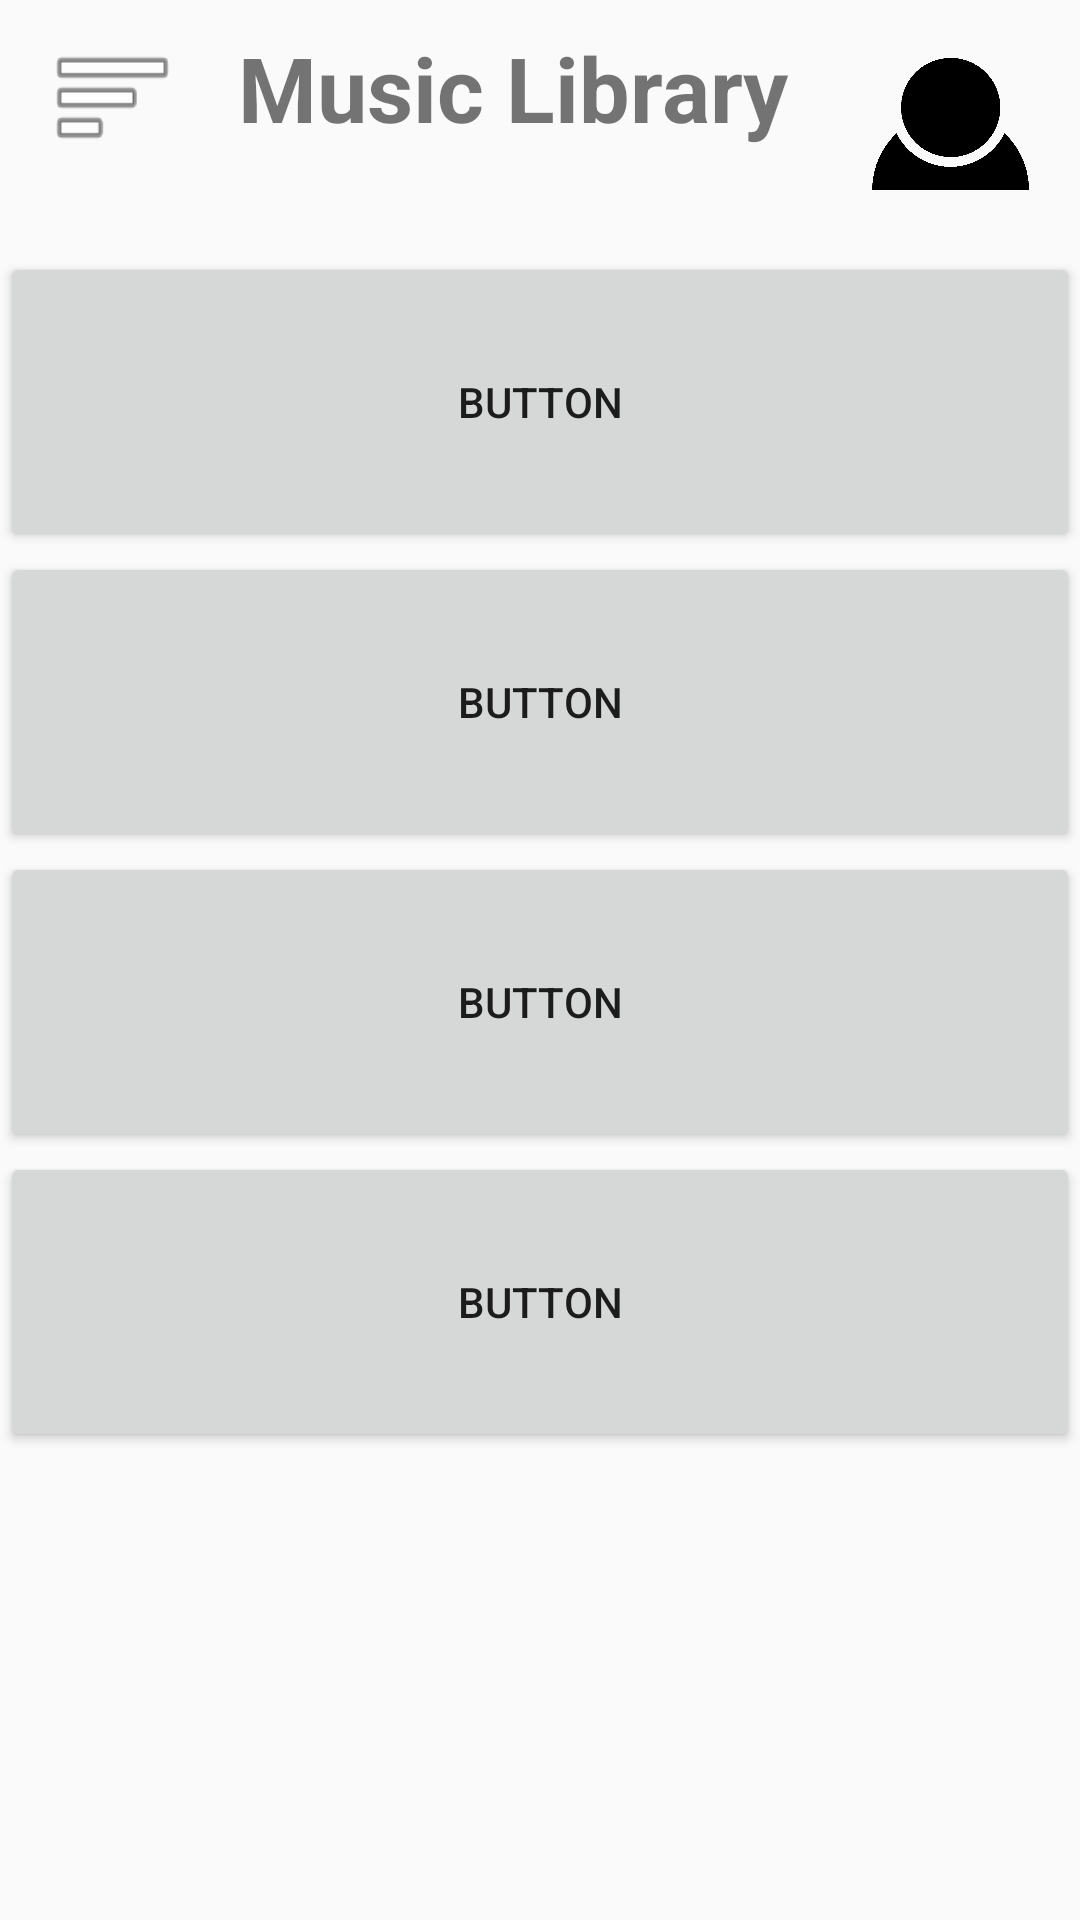

Where icons sit on this 1080px×1920px app screen, as (x1, y1, x2, y2):
profile: (872, 58, 1029, 190)
sort by size: (57, 57, 168, 138)
